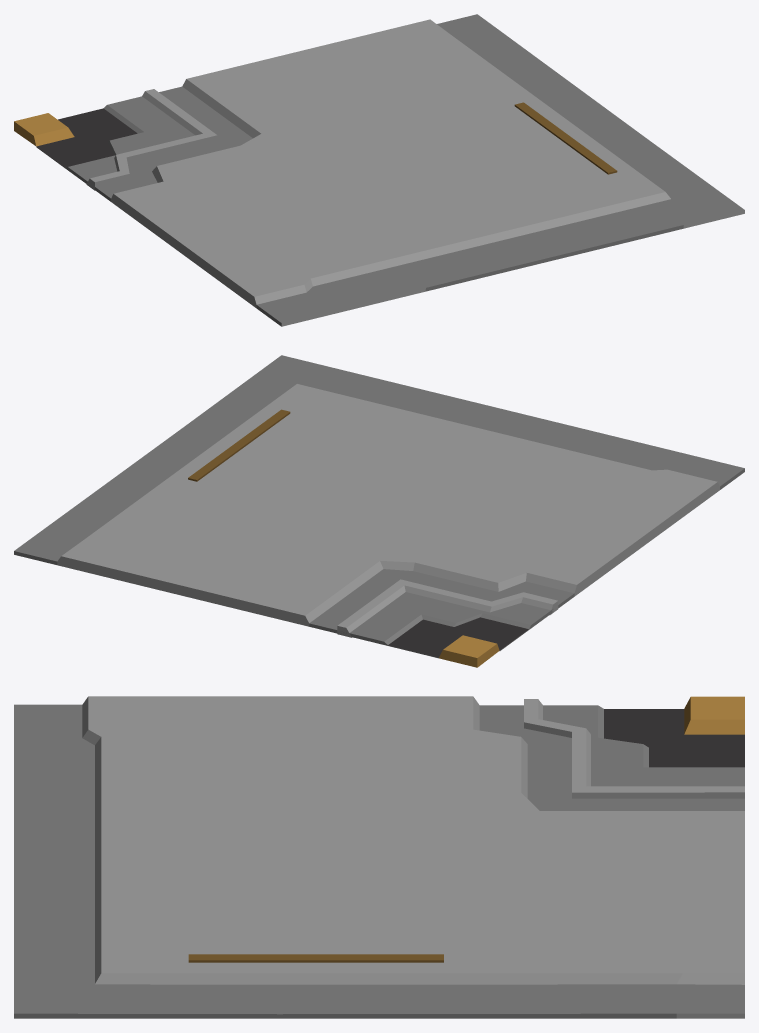
File: quaternius-modular-sci-fi-floor-tile-inner-corner.glb
3 views of the same model, one above another, from view 1: azimuth 30°, elevation 25°; view 2: azimuth 150°, elevation 25°; view 3: azimuth 270°, elevation 25° (orthographic). The views are drawn at different scales.
Parts seen in each view (by area): view 1: FloorTile_InnerCorner; view 2: FloorTile_InnerCorner; view 3: FloorTile_InnerCorner.
Boxes of the visible parts, x1,y1,x2,y2 form: FloorTile_InnerCorner: (14,14,744,326); FloorTile_InnerCorner: (14,355,744,667); FloorTile_InnerCorner: (14,696,744,1018).
Bounding box in the file's own units: 2 × 0.051 × 2.
1 material, 1 textured.
